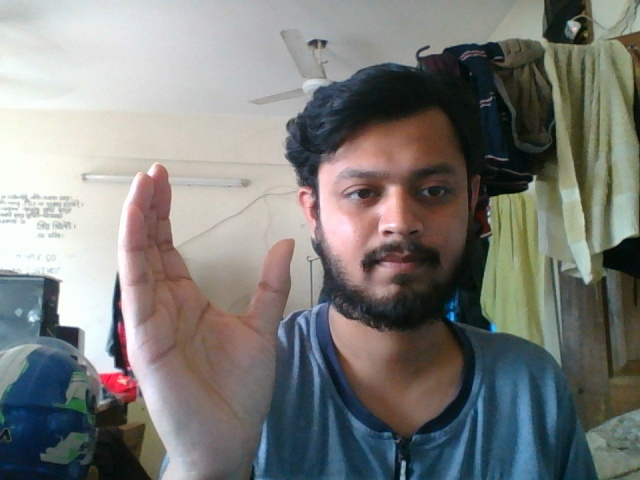o: (109, 152, 308, 475)
